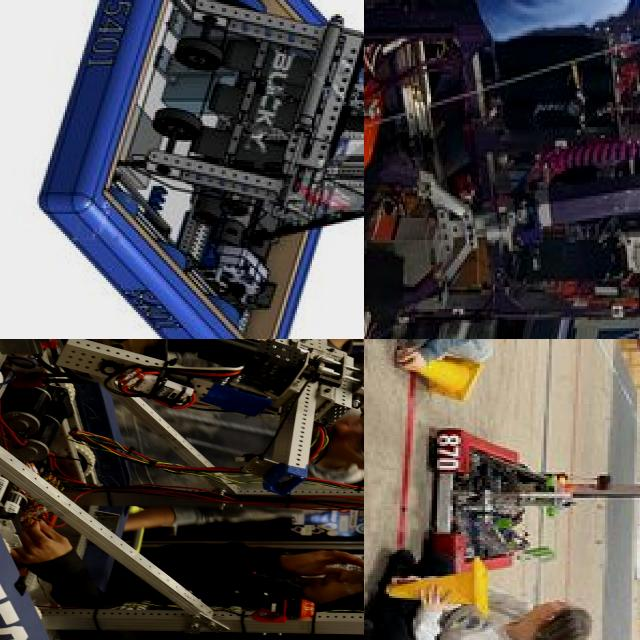FRC-Robots: (31, 0, 364, 339), (0, 339, 364, 640), (364, 0, 640, 339), (433, 403, 640, 578)
